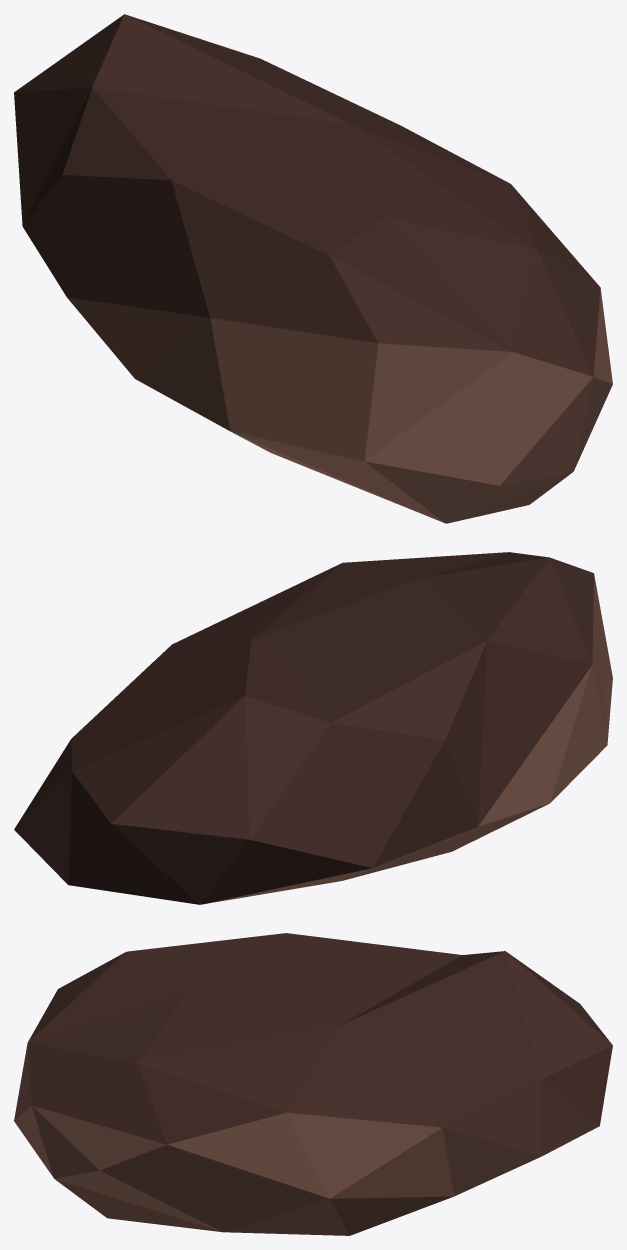
The model's file is Brown_stone_010.fbx.
The picture shows the model from 3 angles, top to bottom: view 1: azimuth 30°, elevation 25°; view 2: azimuth 150°, elevation 25°; view 3: azimuth 270°, elevation 25°; orthographic projection. The views are drawn at different scales.
Parts seen in each view (by area): view 1: Brown_stone_010; view 2: Brown_stone_010; view 3: Brown_stone_010.
Part boxes in pixels (<box>): Brown_stone_010: <box>14,14,612,523</box>; Brown_stone_010: <box>14,552,612,904</box>; Brown_stone_010: <box>14,933,612,1235</box>.
Size of the model in its own units: 272 by 479 by 213.
